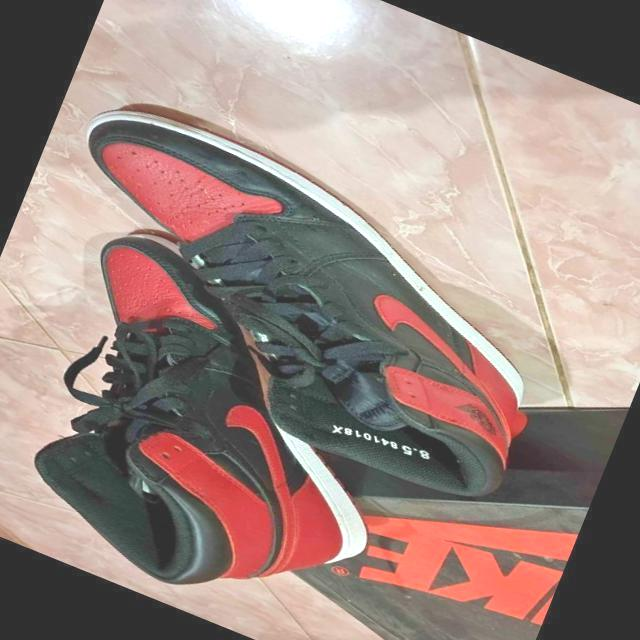nike_original_jordan: (9, 82, 587, 518), (0, 211, 451, 640)
